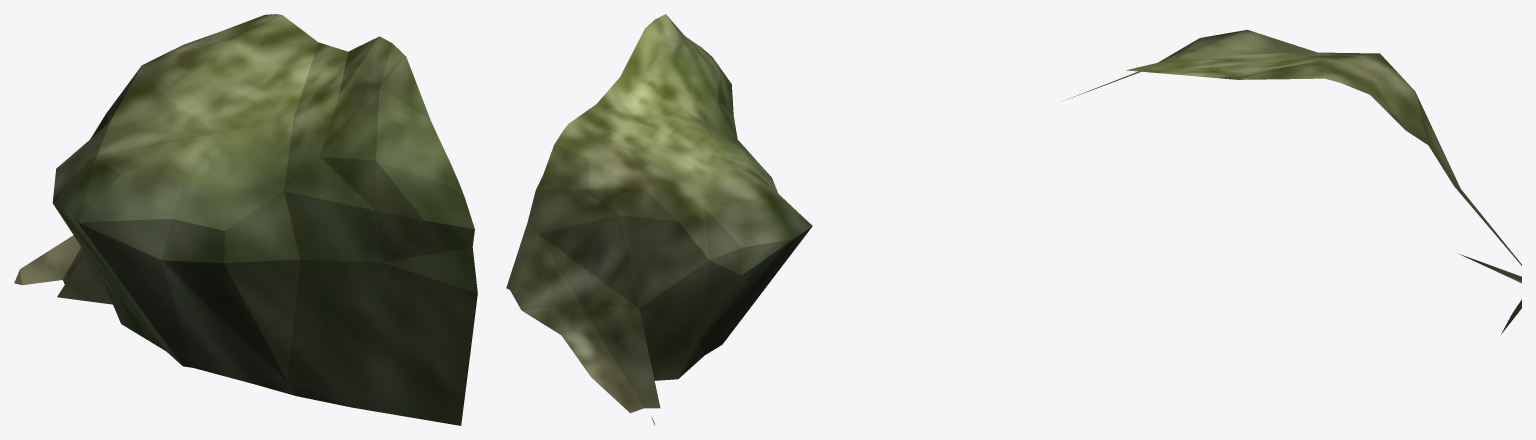
3 views of the same model, side by side, from view 1: azimuth 30°, elevation 25°; view 2: azimuth 150°, elevation 25°; view 3: azimuth 270°, elevation 25° (orthographic). The views are drawn at different scales.
Size of the model in its own units: 0.655 by 0.8054 by 1.21.
1 material, 1 textured.
